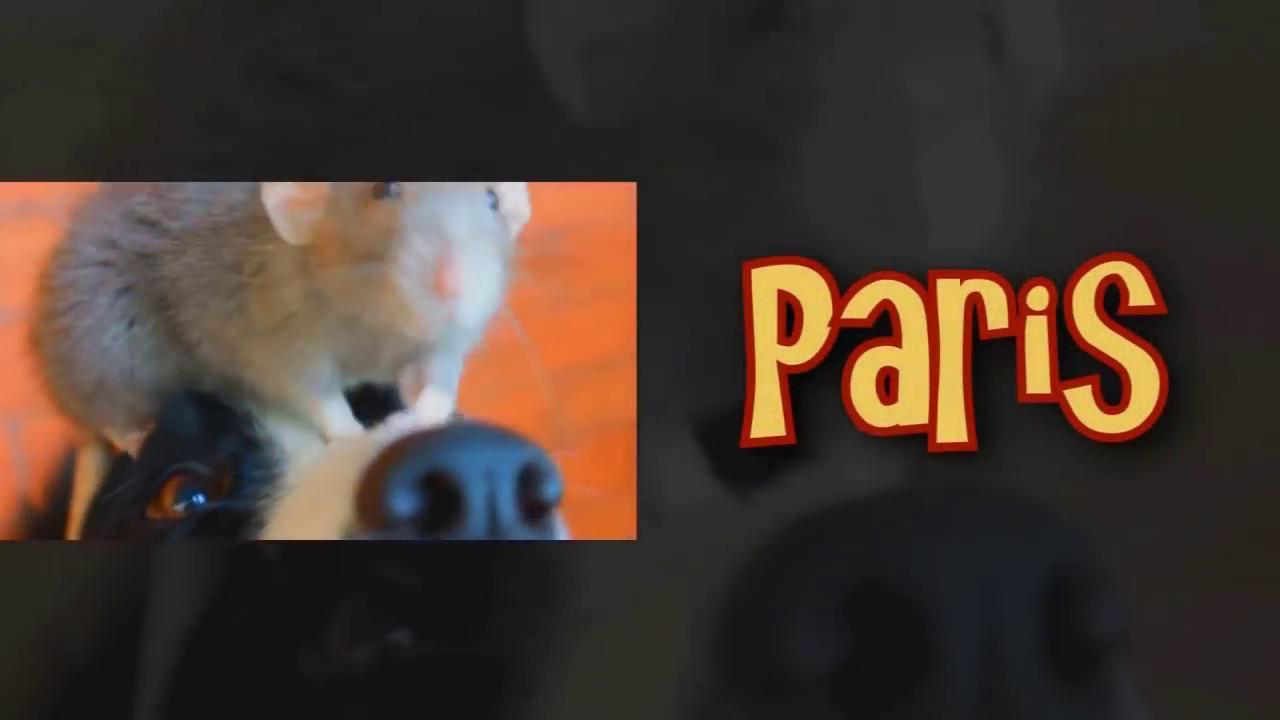rat: (31, 182, 534, 455)
